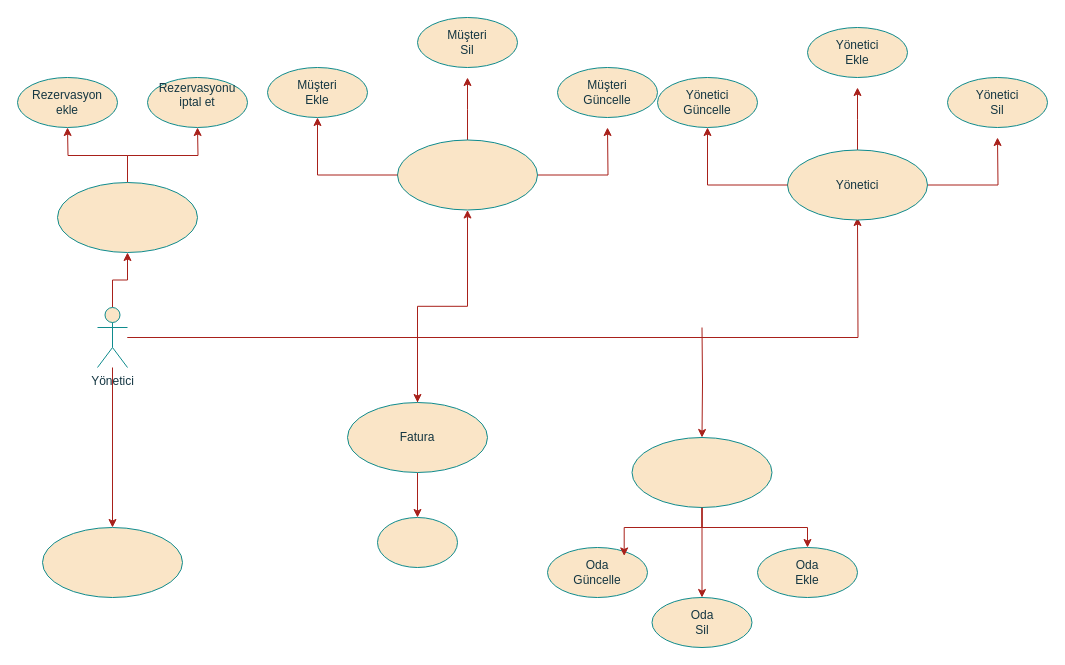
This 1065x665 diagram has some shape labels left out. The centre of each missing label's shape, as x and y in pixels:
"Fatura Görüntüleme" belongs at (x=417, y=542).
"Müşteri" belongs at (x=467, y=174).
"Oda" belongs at (x=701, y=472).
"Rezervasyon" belongs at (x=127, y=217).
"Sisteme Giriş" belongs at (x=112, y=562).
